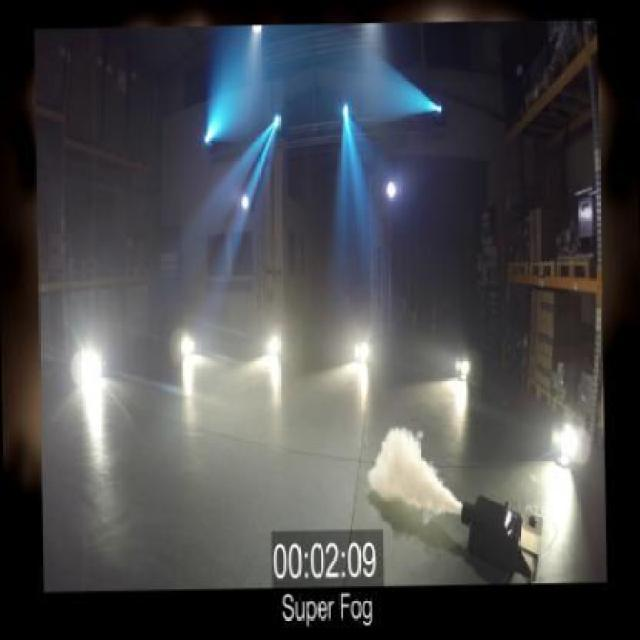fire: (365, 420, 453, 520)
